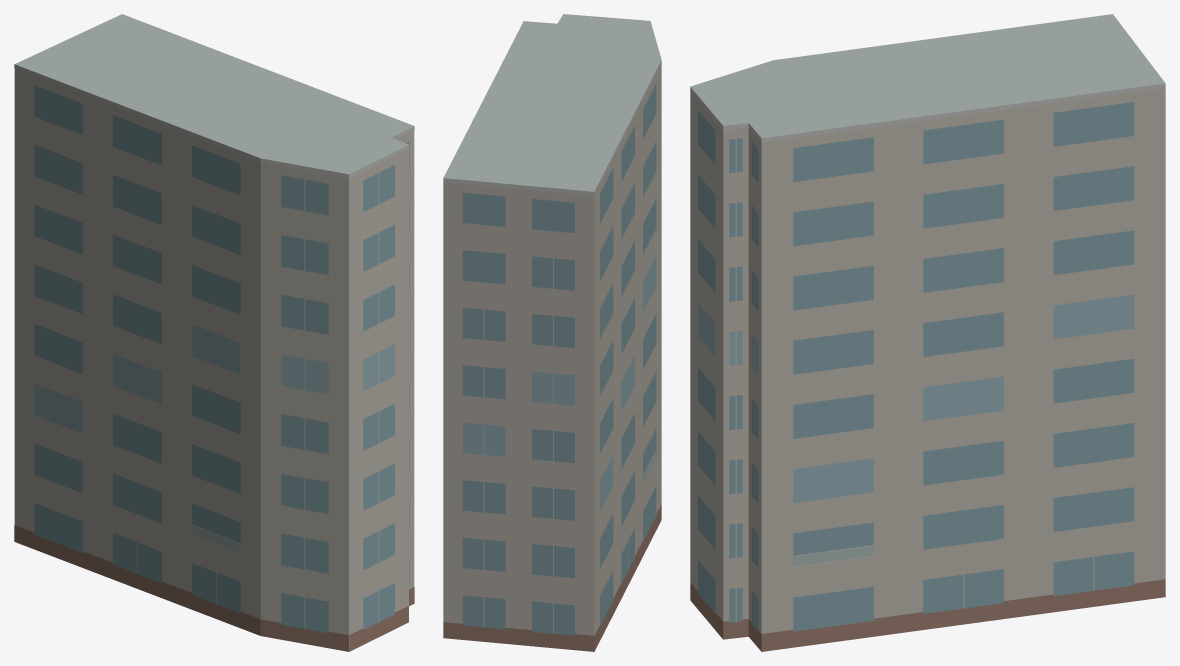
Rendered from survey-upis-32561097.glb.
3 renders of one model, left to right at view 1: azimuth 30°, elevation 25°; view 2: azimuth 150°, elevation 25°; view 3: azimuth 270°, elevation 25°, orthographic. The views are drawn at different scales.
Visible parts, largest first — view 1: survey-upis-32561097.tmp; view 2: survey-upis-32561097.tmp; view 3: survey-upis-32561097.tmp.
Part boxes in pixels (bbox=[...]): survey-upis-32561097.tmp: bbox=[14, 14, 414, 651]; survey-upis-32561097.tmp: bbox=[443, 14, 661, 651]; survey-upis-32561097.tmp: bbox=[690, 14, 1165, 651].
Bounding box in the file's own units: 14.53 × 28 × 23.5.
